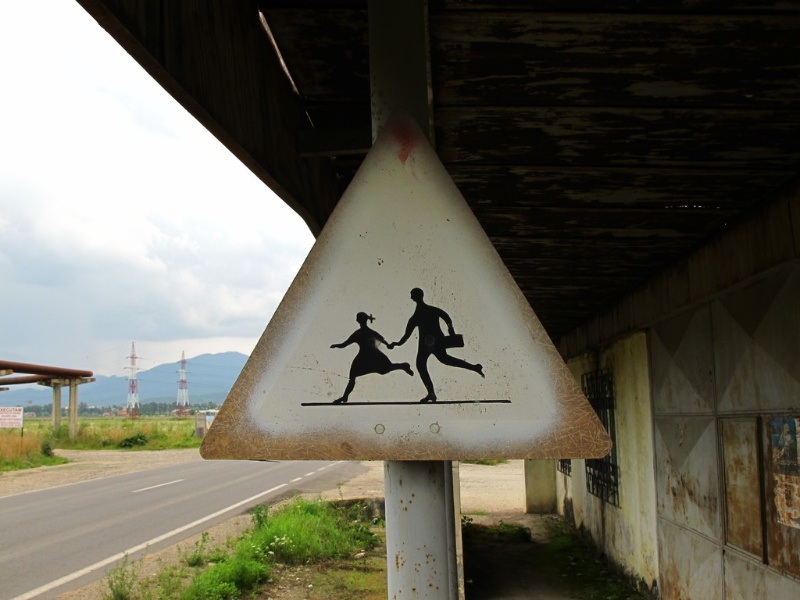pedestrian_crossing_ahead: (320, 282, 496, 420)
